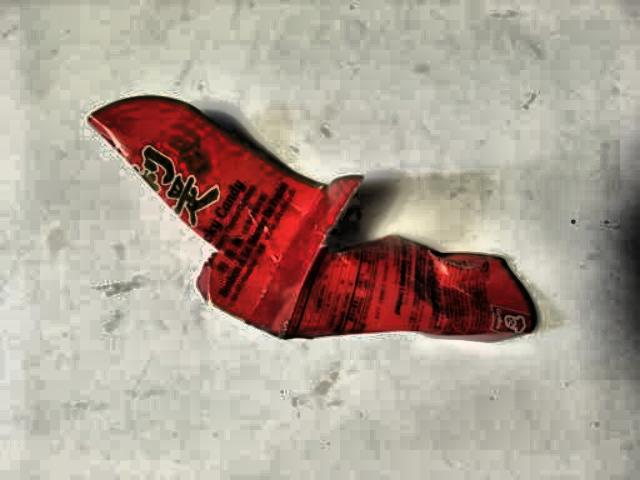Paper: (75, 65, 547, 406)
